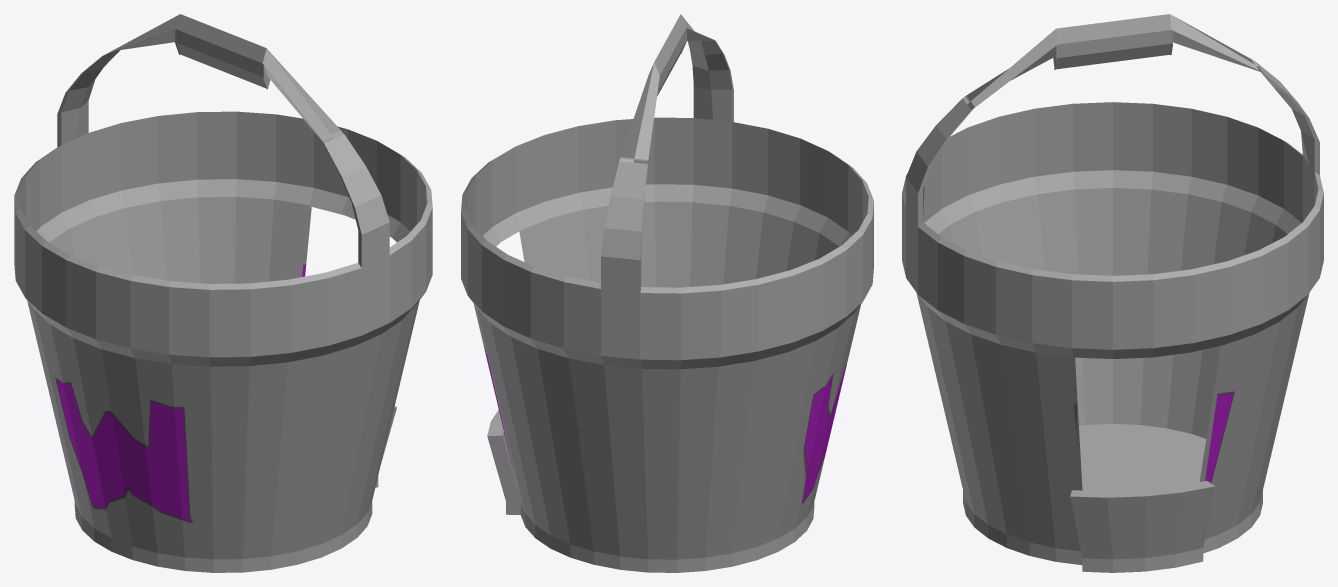
The model's file is Bucket w_Hole.obj.
The picture shows the model from 3 angles, left to right: view 1: azimuth 30°, elevation 25°; view 2: azimuth 150°, elevation 25°; view 3: azimuth 270°, elevation 25°; orthographic projection.
Parts seen in each view (by area): view 1: Cylinder; view 2: Cylinder; view 3: Cylinder.
Boxes of the visible parts, x1,y1,x2,y2 form: Cylinder: (14, 14, 432, 572); Cylinder: (461, 14, 873, 572); Cylinder: (902, 14, 1323, 572).
Size of the model in its own units: 2.81 by 3.55 by 2.81.
Materials: 1 (1 with a texture image).
